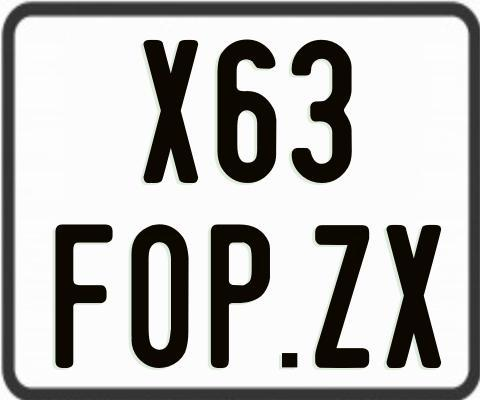0: (128, 222, 186, 369)
3: (292, 39, 352, 187)
6: (217, 40, 282, 188)
F: (55, 221, 119, 365)
P: (210, 224, 273, 370)
X: (141, 40, 199, 183), (383, 224, 439, 372)
Z: (315, 223, 372, 368)
